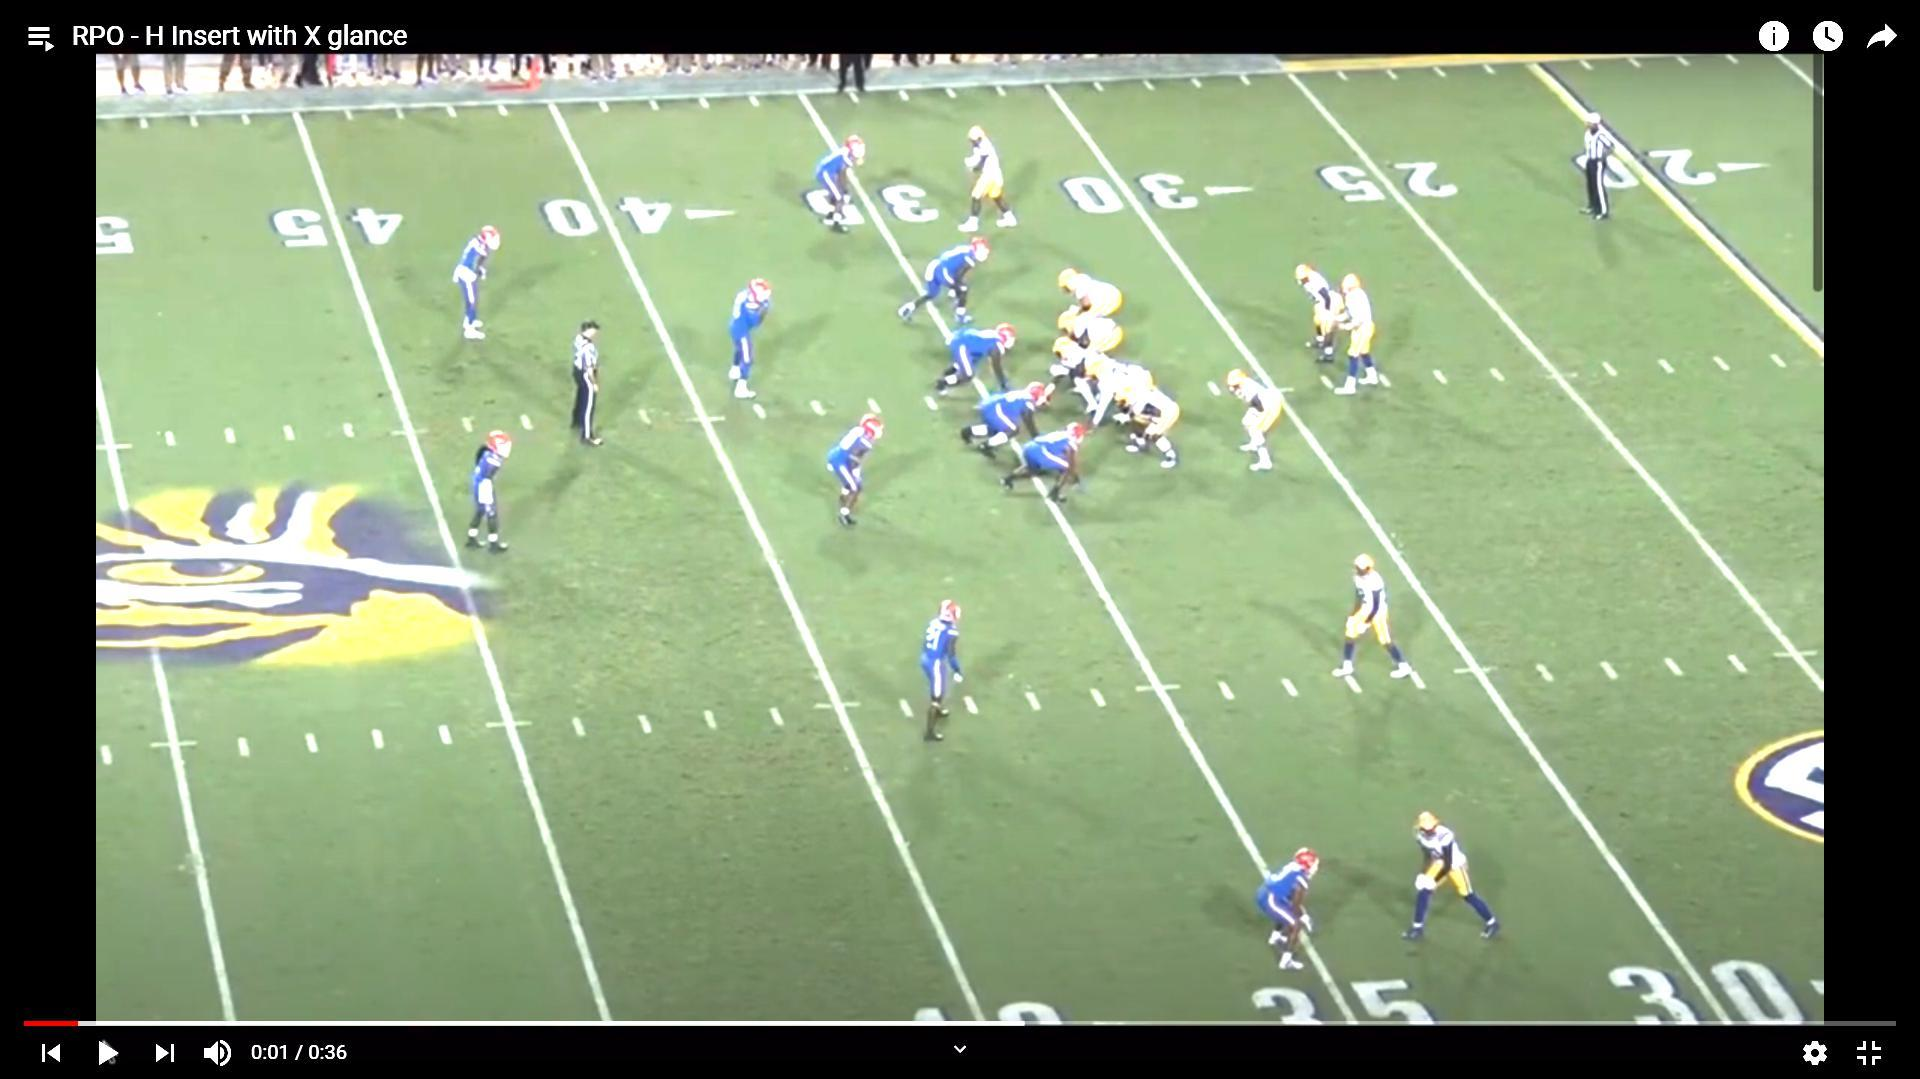defense: (1257, 846, 1327, 976), (891, 235, 989, 327), (919, 596, 976, 748), (938, 322, 1029, 405), (1001, 423, 1089, 507), (960, 383, 1047, 462), (828, 412, 885, 532), (460, 431, 512, 562), (727, 277, 774, 408), (450, 224, 500, 347), (816, 133, 869, 237)
oline: (1122, 384, 1187, 471), (1083, 352, 1150, 435), (1043, 334, 1108, 410), (1056, 265, 1125, 326), (1055, 310, 1122, 354)
qb: (1327, 272, 1383, 404)
ref: (564, 319, 607, 451), (1577, 116, 1626, 230)
skill: (1403, 805, 1511, 948), (1335, 546, 1422, 690), (957, 123, 1022, 239), (1224, 363, 1286, 476), (1290, 260, 1337, 361)
